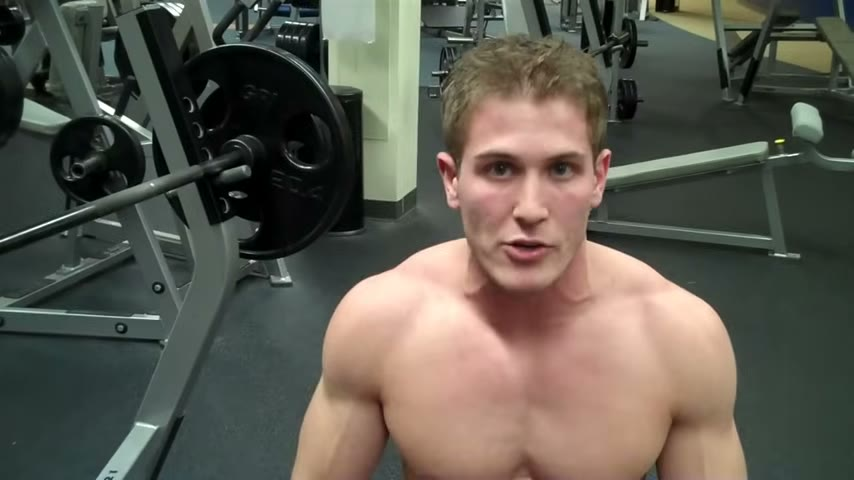barbell_plate_side: (229, 15, 373, 476)
